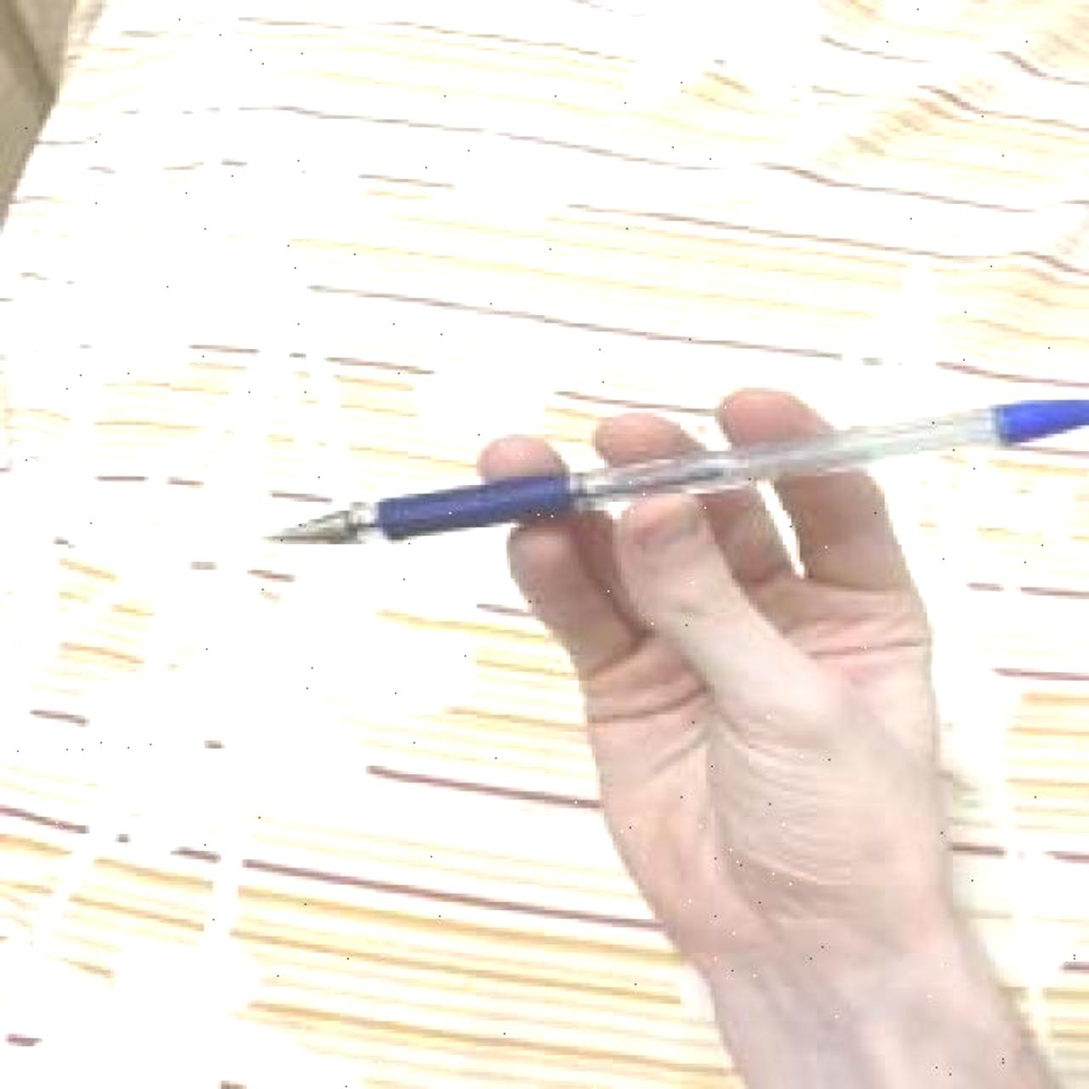pen: (693, 0, 1089, 834)
